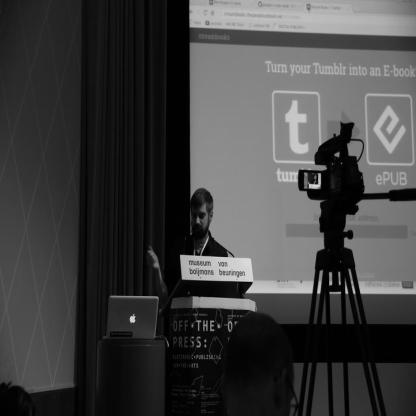board: (105, 294, 160, 338)
